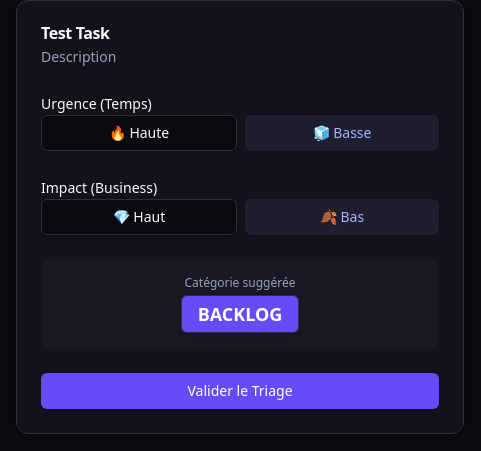
TriageCard › calculates category based on selection
This screenshot has width=481, height=451.
Click the button with aria-label "High Urgency": coordinates (139, 133) [41,115,237,151]
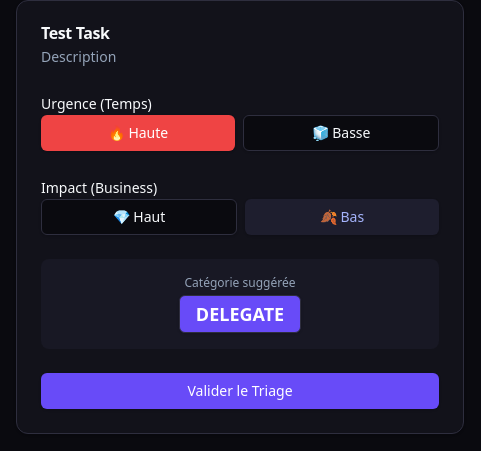
Expected: the text "DELEGATE" is shown, [179,295,301,333]
Note: Click High Impact
Click the button with aria-label "High Impact": coordinates (139, 217) [41,199,237,235]
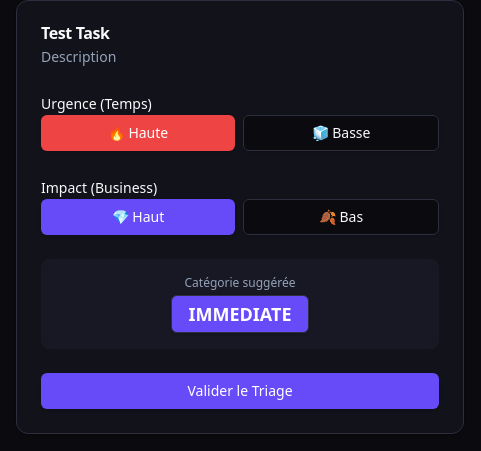
Expected: the text "IMMEDIATE" is shown, [172,295,308,333]
